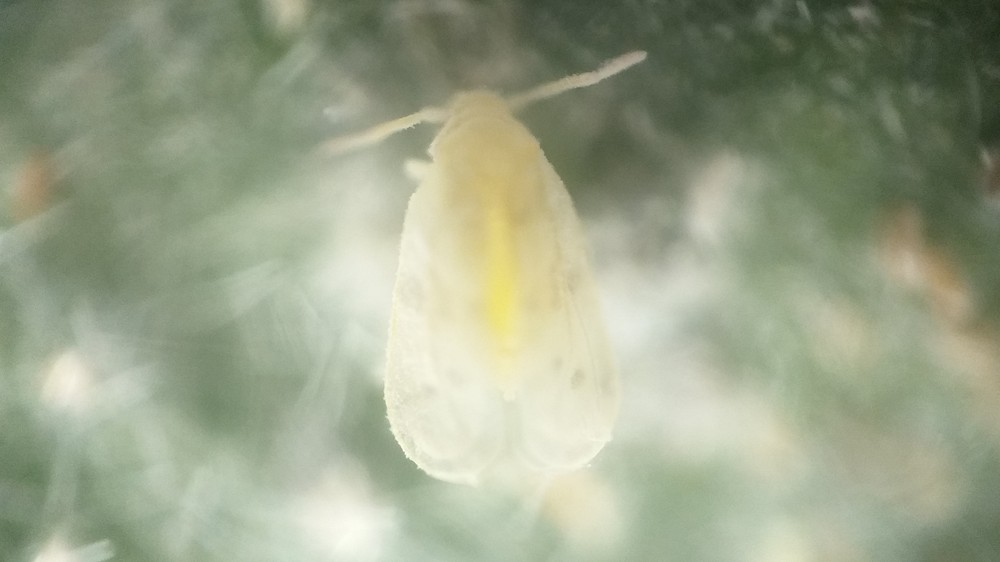Mosca Blanca: (313, 47, 712, 501)
